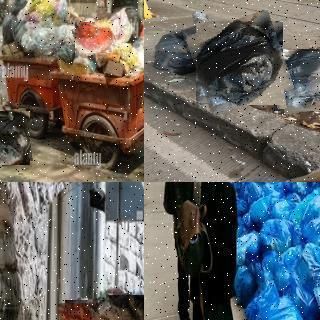Garbage: (191, 15, 288, 111), (272, 46, 320, 113), (151, 27, 201, 74), (259, 214, 303, 256), (0, 109, 31, 166), (291, 242, 320, 297), (73, 20, 115, 56), (180, 21, 225, 53), (245, 194, 296, 221), (251, 296, 308, 320), (296, 194, 320, 246), (230, 263, 259, 303), (61, 299, 108, 320), (243, 182, 268, 206), (283, 182, 317, 194), (230, 182, 255, 190)
